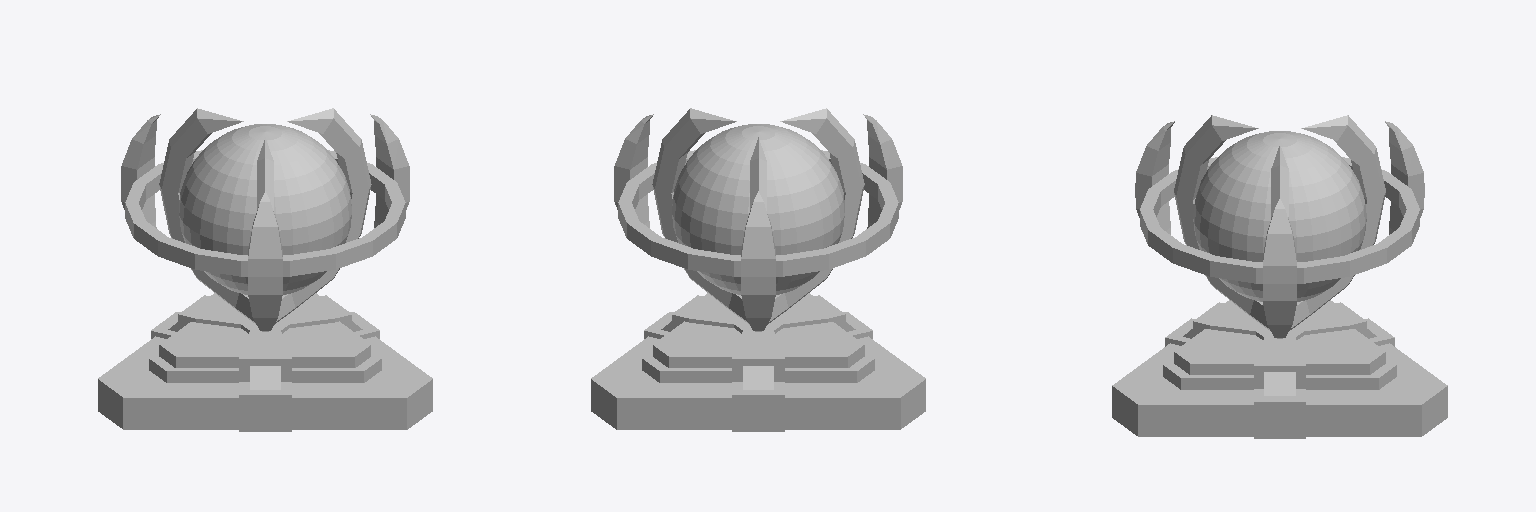
File: Reactor.obj
3 renders of one model, left to right at view 1: azimuth 30°, elevation 25°; view 2: azimuth 150°, elevation 25°; view 3: azimuth 270°, elevation 25°, orthographic.
Parts seen in each view (by area): view 1: Cylinder_Cylinder.001, Sphere, Cube.001_Cube.002, Cube_Cube.001; view 2: Cylinder_Cylinder.001, Sphere, Cube.001_Cube.002, Cube_Cube.001; view 3: Cylinder_Cylinder.001, Sphere, Cube.001_Cube.002, Cube_Cube.001.
Part boxes in pixels (bbox=[...]): Cylinder_Cylinder.001: bbox=[98, 293, 432, 431]; Sphere: bbox=[179, 124, 351, 294]; Cube.001_Cube.002: bbox=[121, 114, 409, 331]; Cube_Cube.001: bbox=[159, 108, 371, 324]; Cylinder_Cylinder.001: bbox=[591, 293, 925, 431]; Sphere: bbox=[672, 124, 844, 294]; Cube.001_Cube.002: bbox=[614, 114, 902, 331]; Cube_Cube.001: bbox=[652, 108, 864, 324]; Cylinder_Cylinder.001: bbox=[1112, 300, 1447, 438]; Sphere: bbox=[1193, 131, 1366, 301]; Cube.001_Cube.002: bbox=[1135, 121, 1424, 338]; Cube_Cube.001: bbox=[1174, 115, 1385, 329].
Bounding box in the file's own units: 3.86 × 3.27 × 3.86.